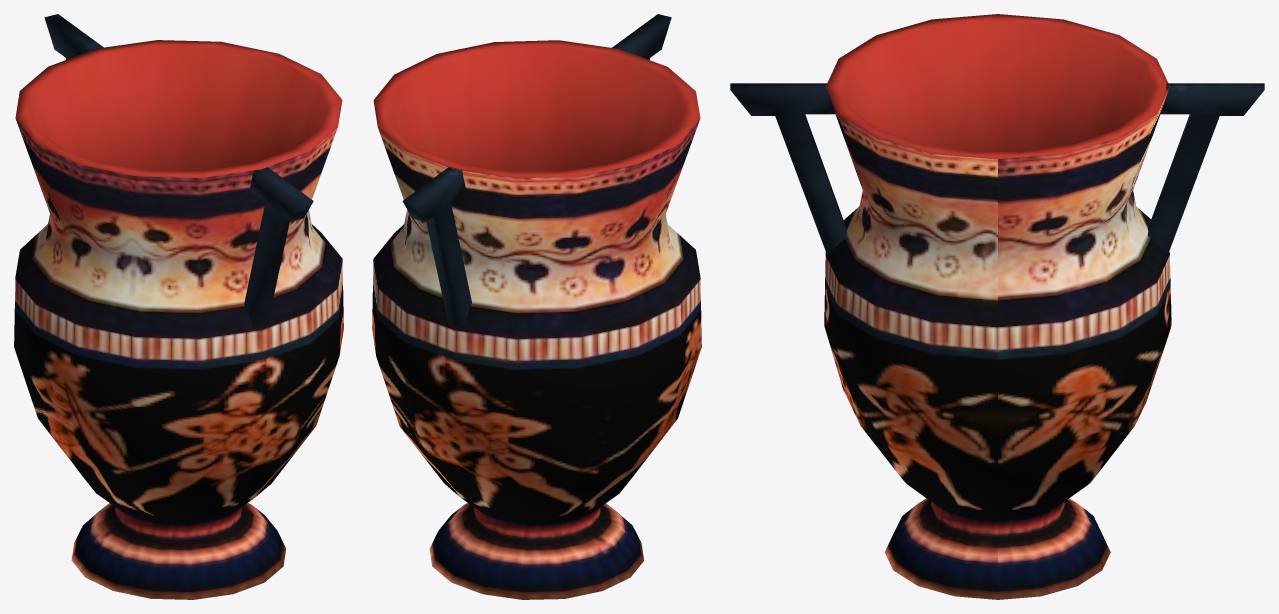
The model's file is vase.obj.
3 views of the same model, side by side, from view 1: azimuth 30°, elevation 25°; view 2: azimuth 150°, elevation 25°; view 3: azimuth 270°, elevation 25° (orthographic). The views are drawn at different scales.
Parts seen in each view (by area): view 1: vase2; view 2: vase2; view 3: vase2.
Part boxes in pixels (x1,y1,x2,y2): vase2: (14,14,343,599); vase2: (372,14,701,599); vase2: (730,14,1264,599).
Size of the model in its own units: 72.9 by 108 by 112.
